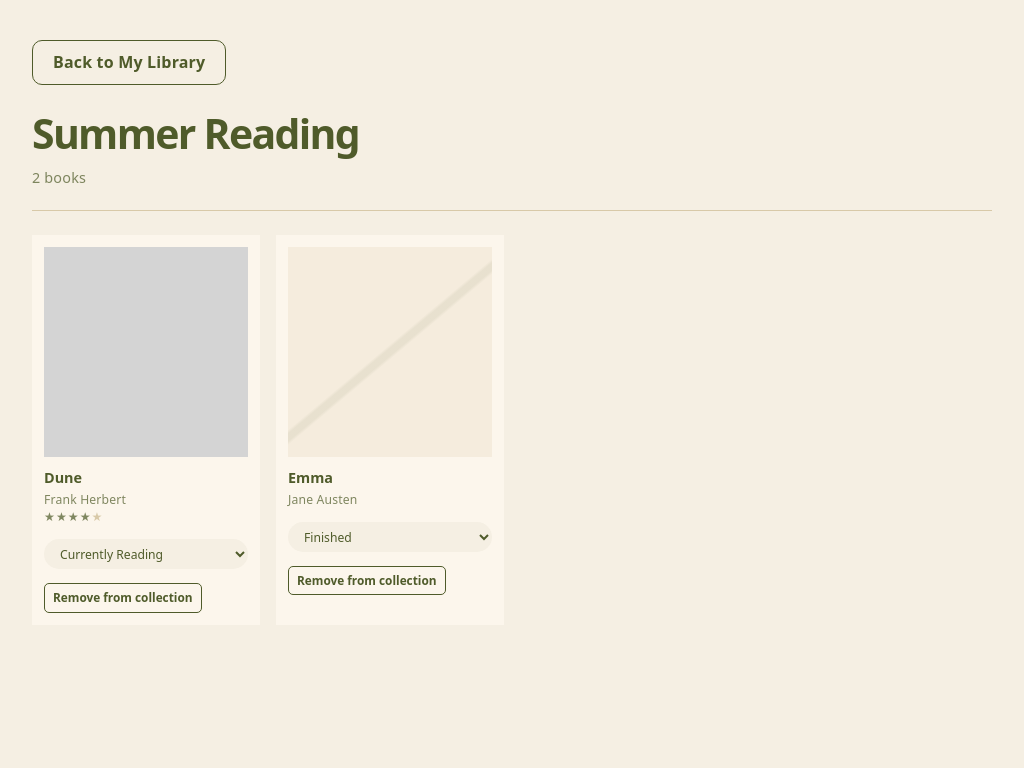
Test: CollectionDetailsPage › refreshes stale membership after a removal 404
Expected: the button "Dune" is shown, [44, 468, 82, 487]
Click the button with aria-label "Remove Dune from collection" at [123, 598], box [44, 583, 202, 612]
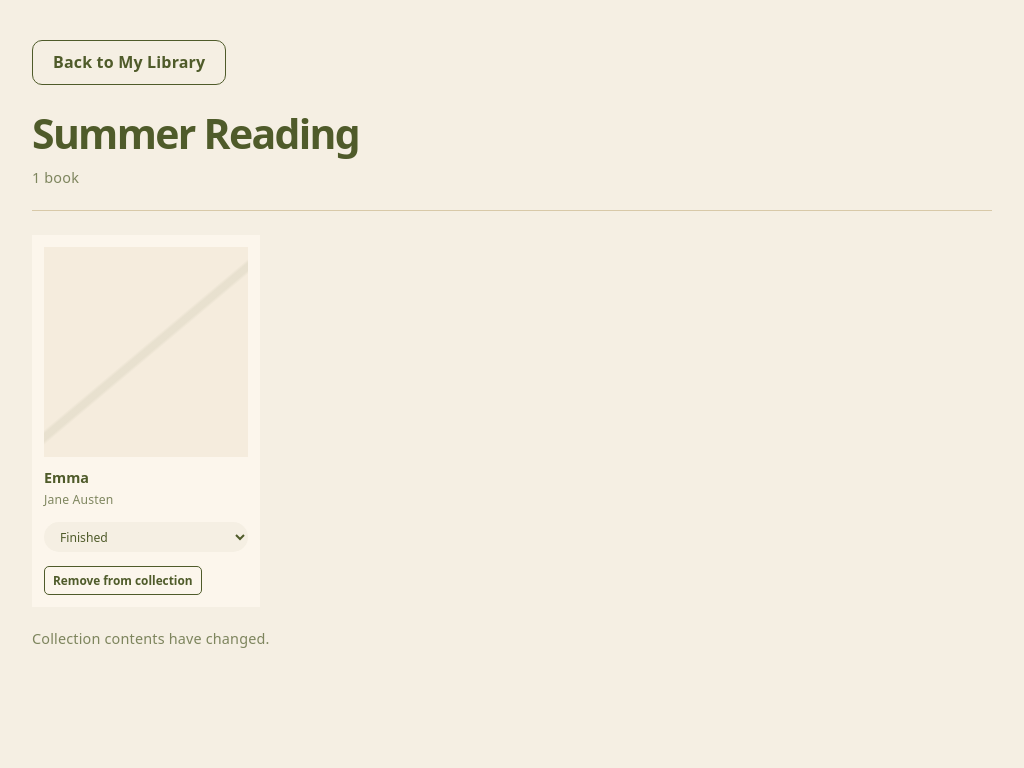
Expected: the button "Dune" is gone
Expected: the text "1 book" is shown, [32, 168, 79, 187]
Expected: the message shows "Collection contents have changed", [32, 630, 270, 648]
